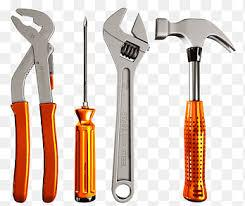wrench: (100, 5, 150, 205)
